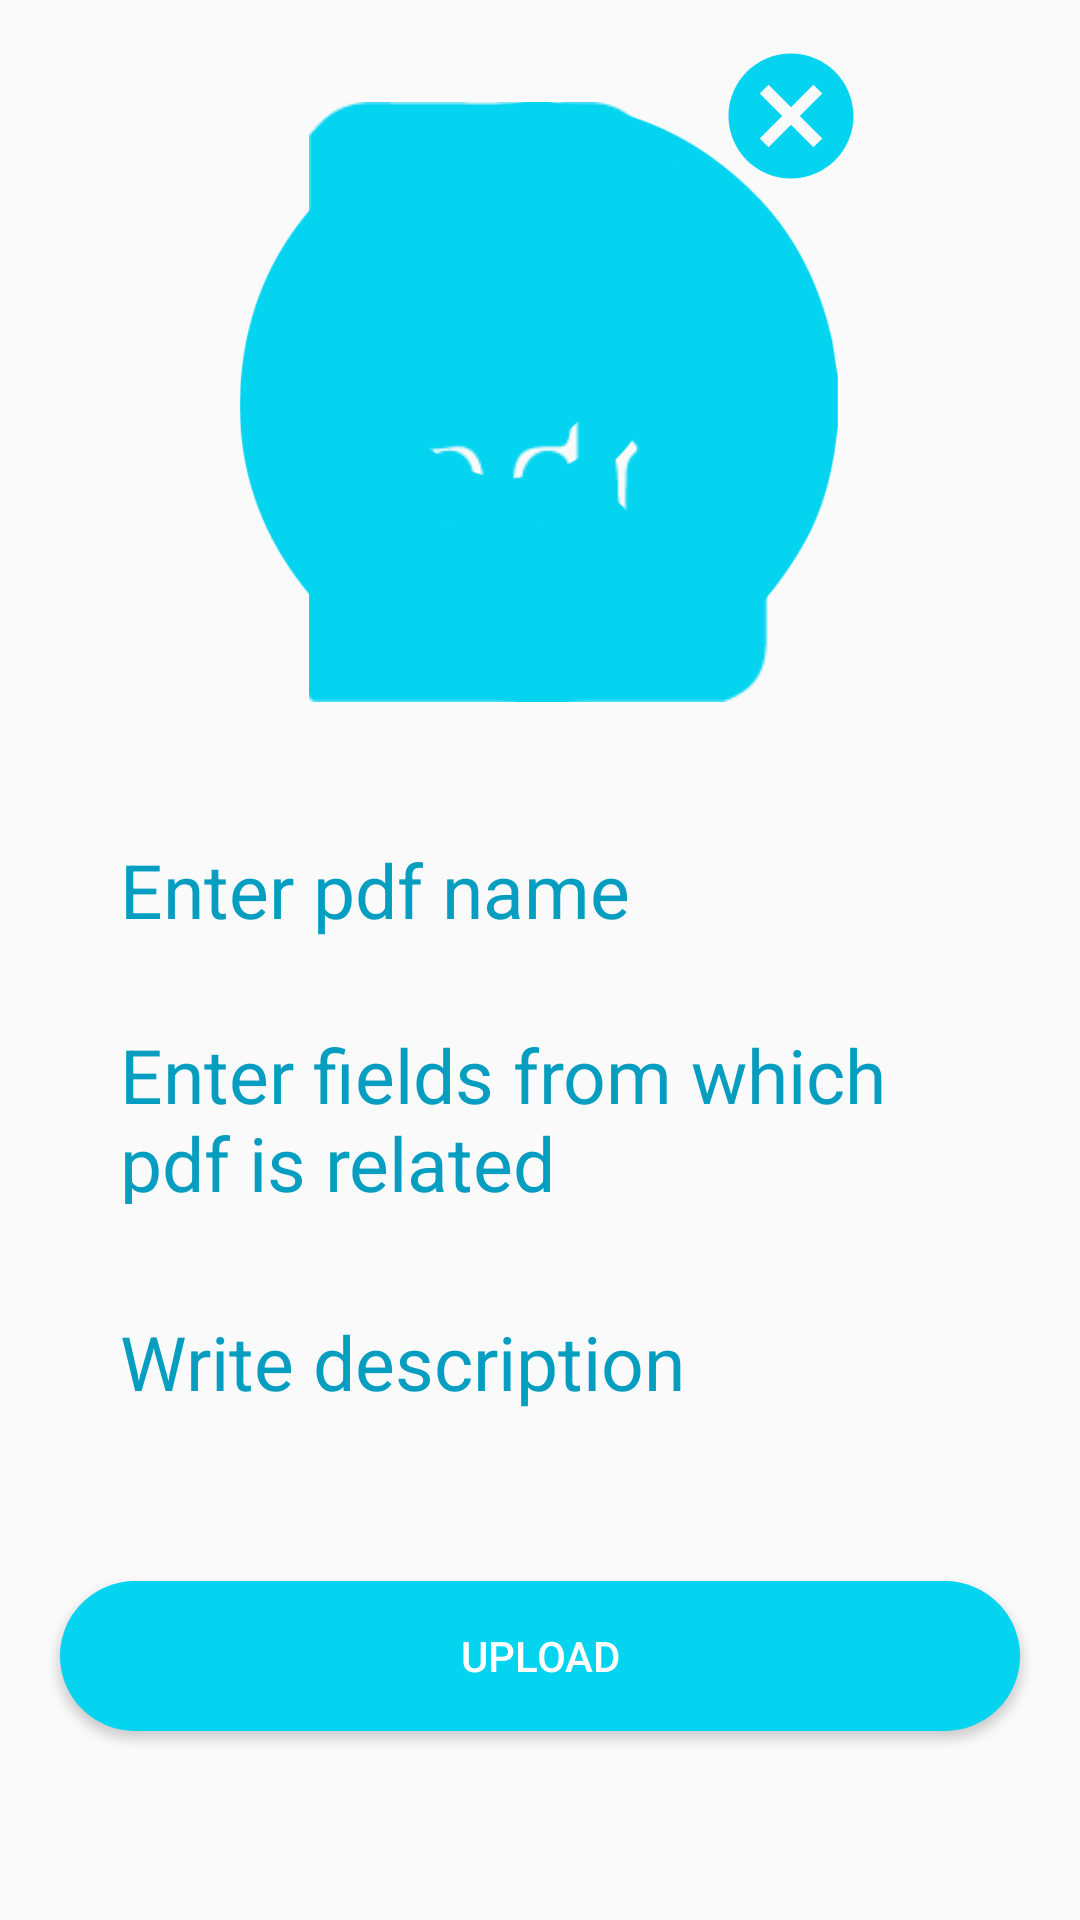

Named icons in this screenshot (1080px x 1920px) and their centers, (x=x, y=y):
cancel: (x=791, y=116)
